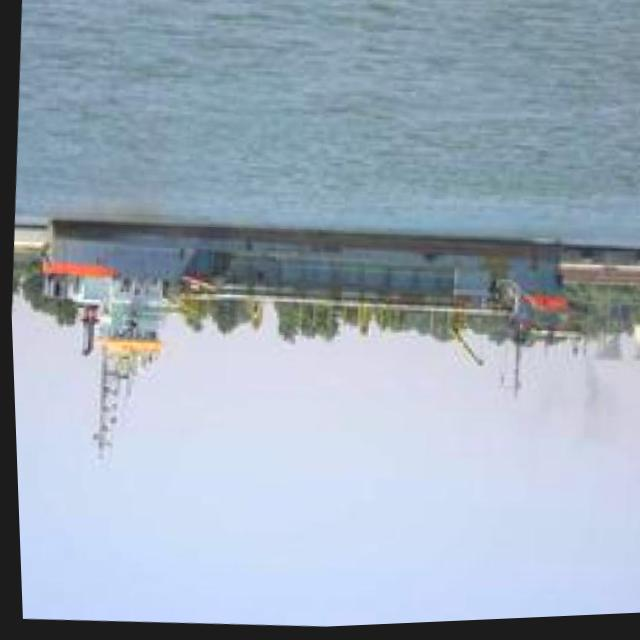ship2: (38, 217, 580, 469)
